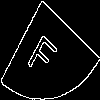F: (25, 25, 63, 80)
